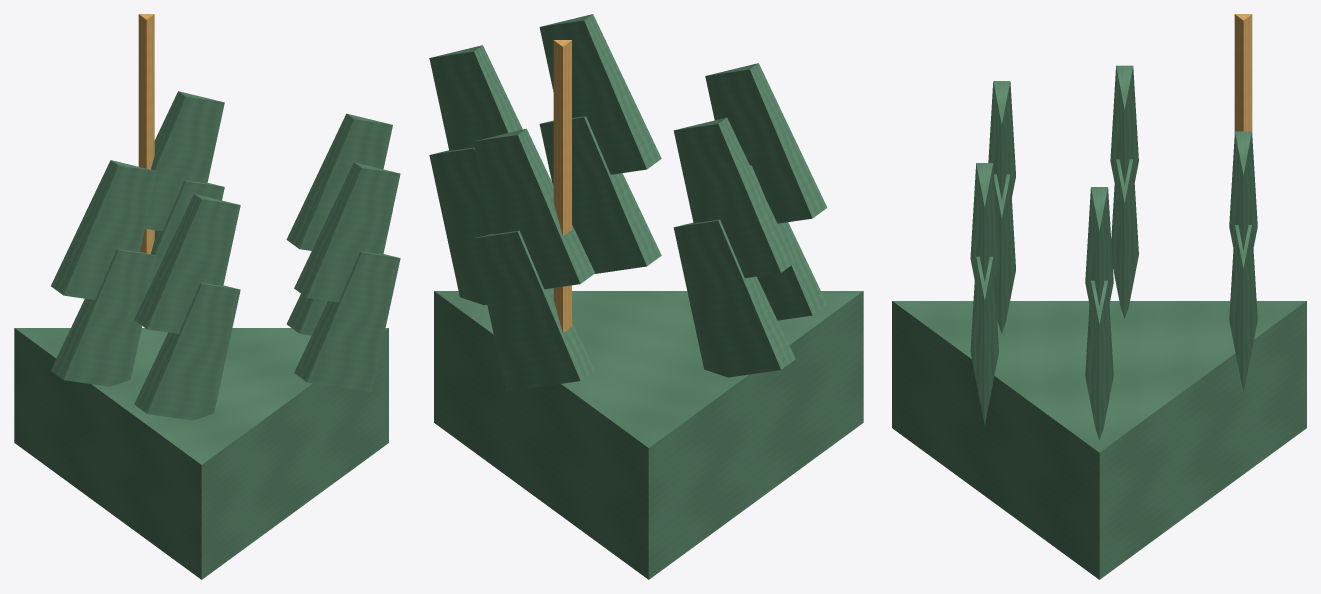
The model's file is atlas100-s001-a12.lod2.glb.
The picture shows the model from 3 angles, left to right: view 1: azimuth 30°, elevation 25°; view 2: azimuth 150°, elevation 25°; view 3: azimuth 270°, elevation 25°; orthographic projection. The views are drawn at different scales.
Visible parts, largest first — view 1: atlas100-s001-a12:part-000, atlas100-s001-a12:part-011, atlas100-s001-a12:part-005, atlas100-s001-a12:part-014, atlas100-s001-a12:part-012, atlas100-s001-a12:part-006, atlas100-s001-a12:part-015, atlas100-s001-a12:part-009, atlas100-s001-a12:part-003, atlas100-s001-a12:part-007, atlas100-s001-a12:part-008, atlas100-s001-a12:part-002; view 2: atlas100-s001-a12:part-000, atlas100-s001-a12:part-014, atlas100-s001-a12:part-008, atlas100-s001-a12:part-015, atlas100-s001-a12:part-009, atlas100-s001-a12:part-006, atlas100-s001-a12:part-012, atlas100-s001-a12:part-011, atlas100-s001-a12:part-003, atlas100-s001-a12:part-002, atlas100-s001-a12:part-007, atlas100-s001-a12:part-005; view 3: atlas100-s001-a12:part-000, atlas100-s001-a12:part-011, atlas100-s001-a12:part-008, atlas100-s001-a12:part-002, atlas100-s001-a12:part-014, atlas100-s001-a12:part-015, atlas100-s001-a12:part-003, atlas100-s001-a12:part-009, atlas100-s001-a12:part-012, atlas100-s001-a12:part-005, atlas100-s001-a12:part-006, atlas100-s001-a12:part-007.
Part boxes in pixels (x1,y1,x2,y2): atlas100-s001-a12:part-000: [14, 328, 388, 579]; atlas100-s001-a12:part-011: [294, 251, 400, 391]; atlas100-s001-a12:part-005: [134, 283, 240, 420]; atlas100-s001-a12:part-014: [51, 249, 157, 386]; atlas100-s001-a12:part-012: [294, 162, 400, 302]; atlas100-s001-a12:part-006: [134, 194, 240, 333]; atlas100-s001-a12:part-015: [51, 160, 157, 299]; atlas100-s001-a12:part-009: [145, 91, 224, 231]; atlas100-s001-a12:part-003: [286, 113, 392, 250]; atlas100-s001-a12:part-007: [138, 14, 154, 253]; atlas100-s001-a12:part-008: [151, 180, 224, 282]; atlas100-s001-a12:part-002: [286, 210, 392, 335]; atlas100-s001-a12:part-000: [434, 291, 863, 579]; atlas100-s001-a12:part-014: [673, 219, 795, 377]; atlas100-s001-a12:part-008: [473, 230, 594, 391]; atlas100-s001-a12:part-015: [673, 117, 795, 278]; atlas100-s001-a12:part-009: [473, 128, 594, 289]; atlas100-s001-a12:part-006: [705, 63, 827, 223]; atlas100-s001-a12:part-012: [539, 14, 661, 174]; atlas100-s001-a12:part-011: [539, 116, 661, 273]; atlas100-s001-a12:part-003: [429, 45, 522, 150]; atlas100-s001-a12:part-002: [429, 147, 492, 305]; atlas100-s001-a12:part-007: [553, 40, 571, 332]; atlas100-s001-a12:part-005: [750, 165, 827, 320]; atlas100-s001-a12:part-000: [892, 301, 1306, 579]; atlas100-s001-a12:part-011: [970, 256, 998, 424]; atlas100-s001-a12:part-008: [1229, 225, 1257, 393]; atlas100-s001-a12:part-002: [1085, 280, 1113, 439]; atlas100-s001-a12:part-014: [1111, 159, 1138, 318]; atlas100-s001-a12:part-015: [1110, 65, 1138, 184]; atlas100-s001-a12:part-003: [1085, 187, 1113, 306]; atlas100-s001-a12:part-009: [1229, 131, 1257, 250]; atlas100-s001-a12:part-012: [970, 163, 998, 282]; atlas100-s001-a12:part-005: [994, 174, 1015, 333]; atlas100-s001-a12:part-006: [988, 81, 1015, 200]; atlas100-s001-a12:part-007: [1234, 14, 1252, 132].
Size of the model in its own units: 1 by 1.25 by 1.
Materials: 2 (2 with a texture image).
